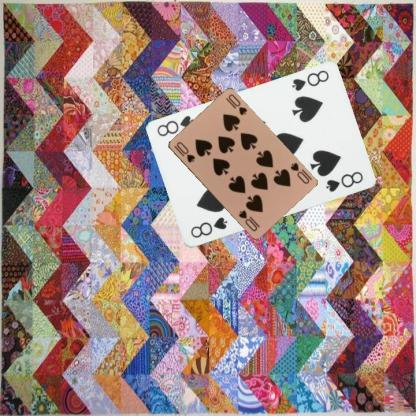10s: (171, 139, 196, 164), (287, 160, 310, 186)
8s: (289, 68, 330, 94), (188, 215, 229, 240)
